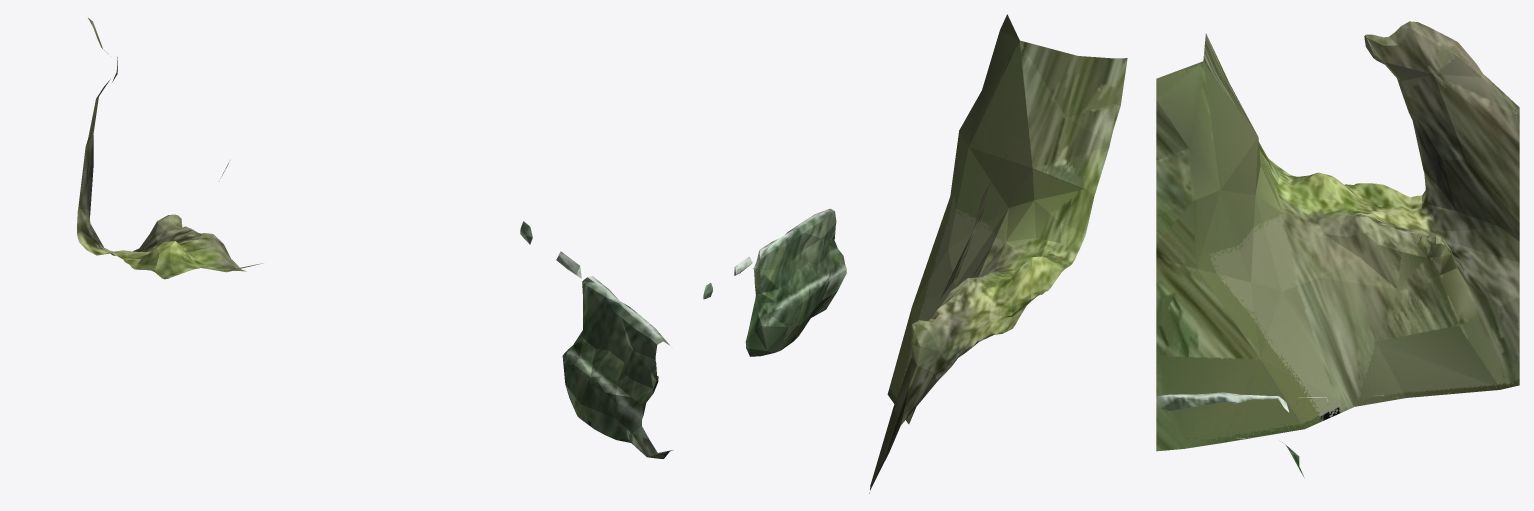
The picture shows the model from 3 angles, left to right: view 1: azimuth 30°, elevation 25°; view 2: azimuth 150°, elevation 25°; view 3: azimuth 270°, elevation 25°; orthographic projection. The views are drawn at different scales.
Size of the model in its own units: 5.9 by 5.9 by 5.9.
Materials: 3 (3 with a texture image).
